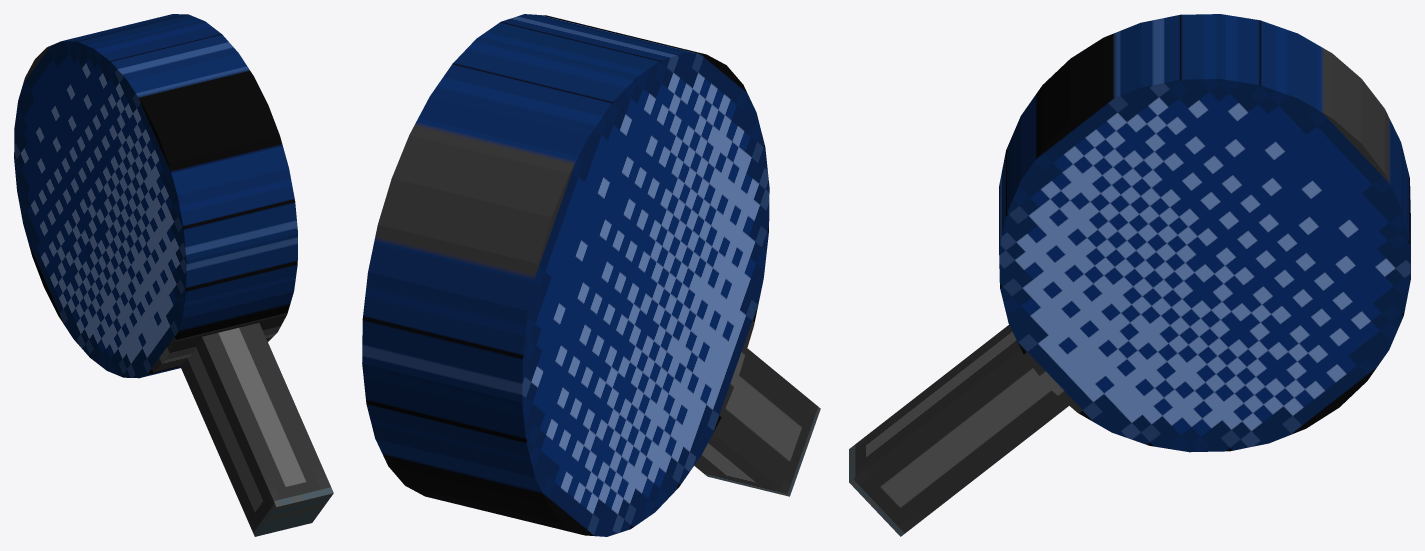
File: BlueLever.glb
3 renders of one model, left to right at view 1: azimuth 30°, elevation 25°; view 2: azimuth 150°, elevation 25°; view 3: azimuth 270°, elevation 25°, orthographic. The views are drawn at different scales.
Parts seen in each view (by area): view 1: Cylinder.002; view 2: Cylinder.002; view 3: Cylinder.002.
Part boxes in pixels (x1,y1,x2,y2): Cylinder.002: (14,14,333,536); Cylinder.002: (362,14,820,536); Cylinder.002: (849,14,1410,536).
Bounding box in the file's own units: 0.9934 × 3.38 × 3.63.
2 materials, 2 textured.
